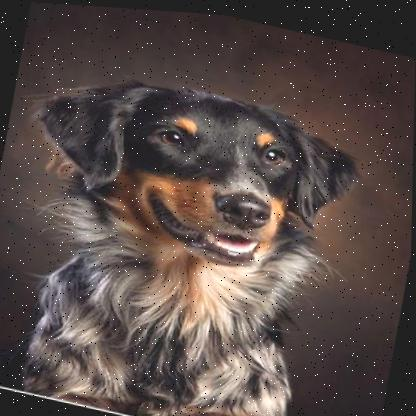dog: (0, 34, 385, 416)
